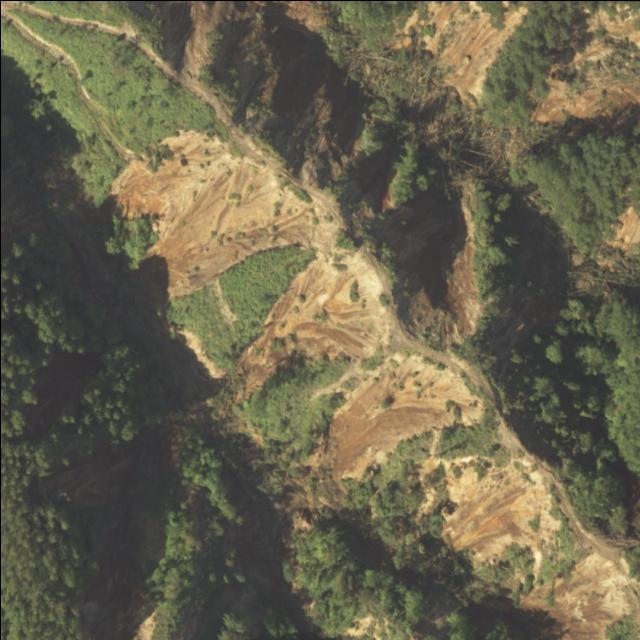landslide: (110, 129, 338, 297), (237, 248, 397, 395), (329, 351, 483, 478), (421, 455, 561, 564), (533, 2, 640, 121), (423, 0, 527, 101), (445, 190, 481, 343), (179, 0, 233, 78), (608, 205, 640, 249)
